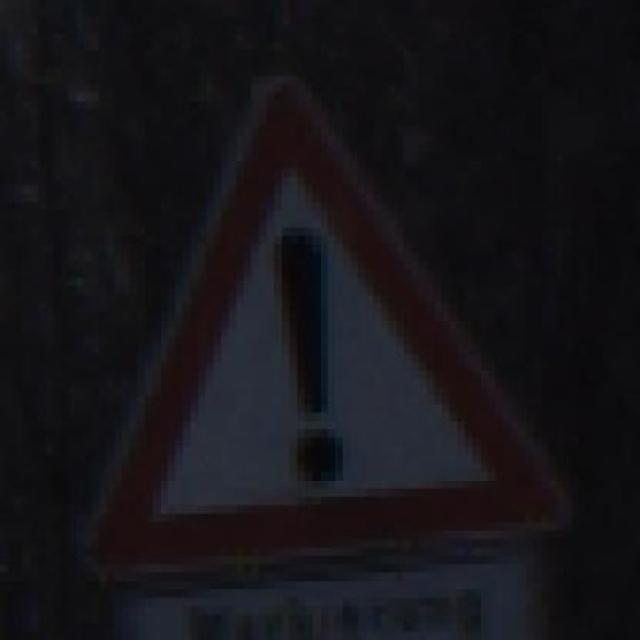Attention Please-: (53, 67, 595, 573)
